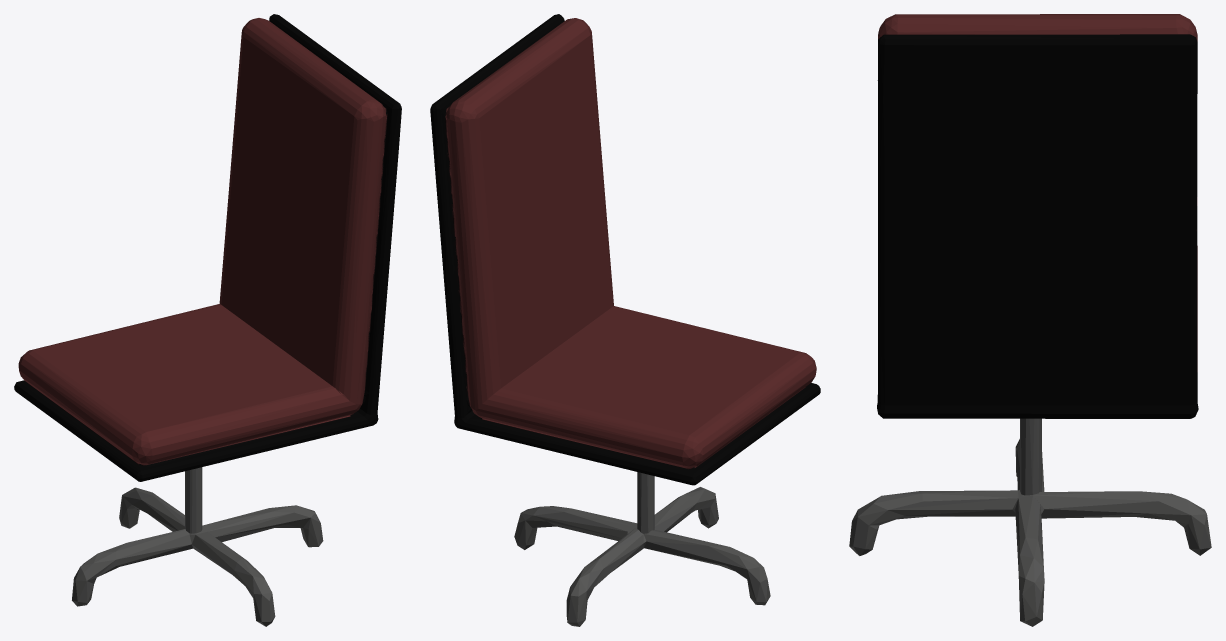
Rendered from drehstuhl.obj.
3 renders of one model, left to right at view 1: azimuth 30°, elevation 25°; view 2: azimuth 150°, elevation 25°; view 3: azimuth 270°, elevation 25°, orthographic. The views are drawn at different scales.
Visible parts, largest first — view 1: 282318_23_05_24_17_51_35_0, 282318_23_05_24_17_51_35_1; view 2: 282318_23_05_24_17_51_35_0, 282318_23_05_24_17_51_35_1; view 3: 282318_23_05_24_17_51_35_0, 282318_23_05_24_17_51_35_1.
Part boxes in pixels (box(x1,y1,x2,y2)): 282318_23_05_24_17_51_35_0: box(14, 14, 401, 533); 282318_23_05_24_17_51_35_1: box(72, 487, 323, 626); 282318_23_05_24_17_51_35_0: box(430, 14, 820, 533); 282318_23_05_24_17_51_35_1: box(514, 487, 770, 626); 282318_23_05_24_17_51_35_0: box(877, 14, 1198, 495); 282318_23_05_24_17_51_35_1: box(849, 439, 1211, 626).
Size of the model in its own units: 5.7 by 9.77 by 5.25.
2 materials, 2 textured.
